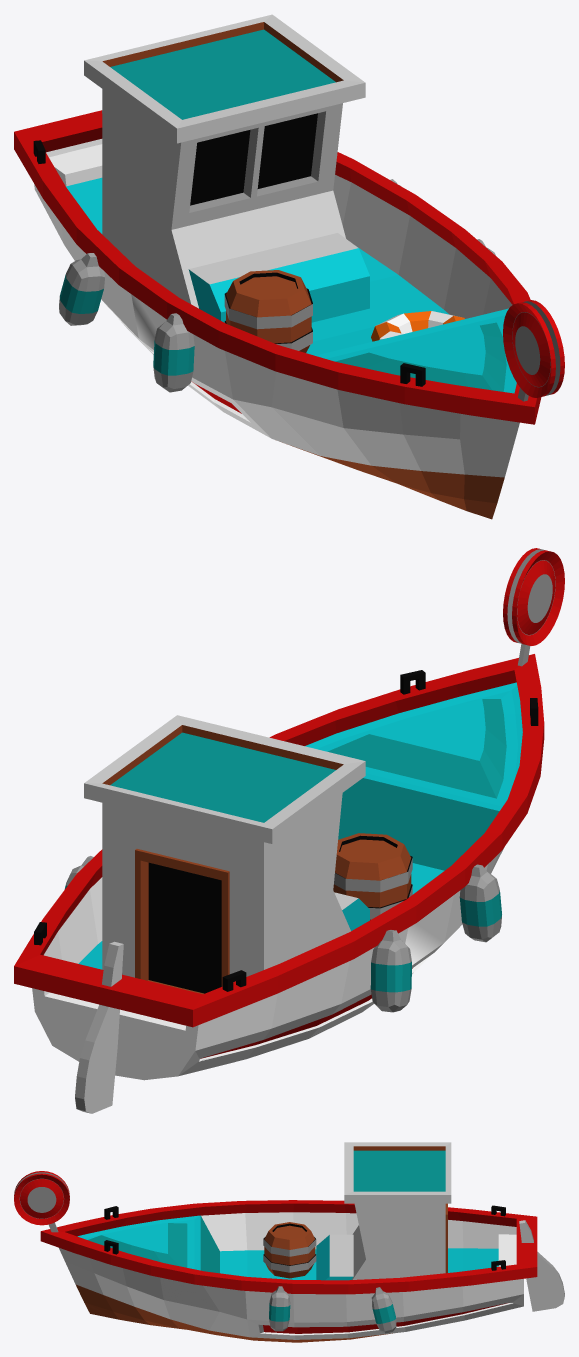
Rendered from fishing_boat.glb.
3 views of the same model, one above another, from view 1: azimuth 30°, elevation 25°; view 2: azimuth 150°, elevation 25°; view 3: azimuth 270°, elevation 25° (orthographic). The views are drawn at different scales.
Parts seen in each view (by area): view 1: fishingboat_greek; view 2: fishingboat_greek; view 3: fishingboat_greek.
Part boxes in pixels (x1,y1,x2,y2): fishingboat_greek: [14, 14, 564, 519]; fishingboat_greek: [14, 548, 564, 1113]; fishingboat_greek: [14, 1142, 564, 1342].
Size of the model in its own units: 3.65 by 2.9 by 8.79.
Materials: 1 (1 with a texture image).
